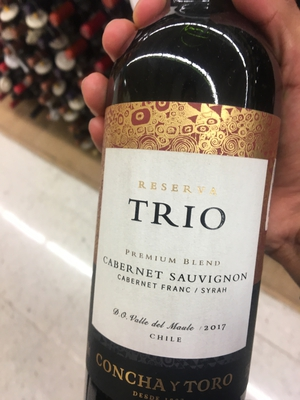trio cabernet sauvignon: (92, 20, 284, 388)
